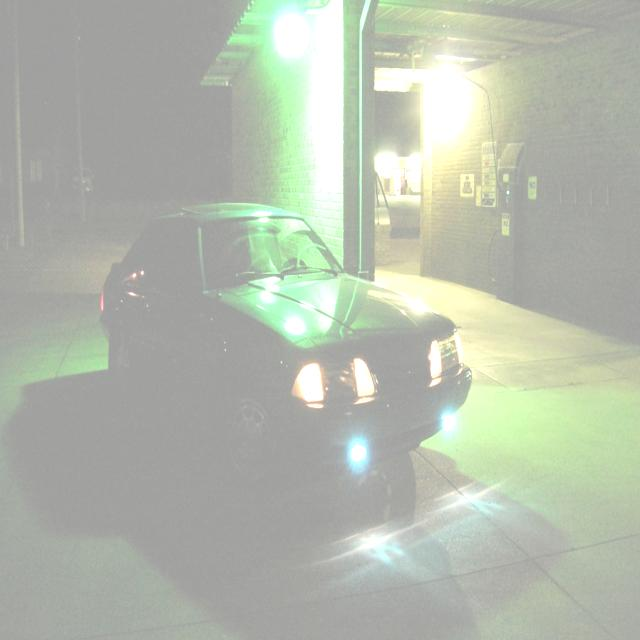Car: (97, 198, 471, 508)
